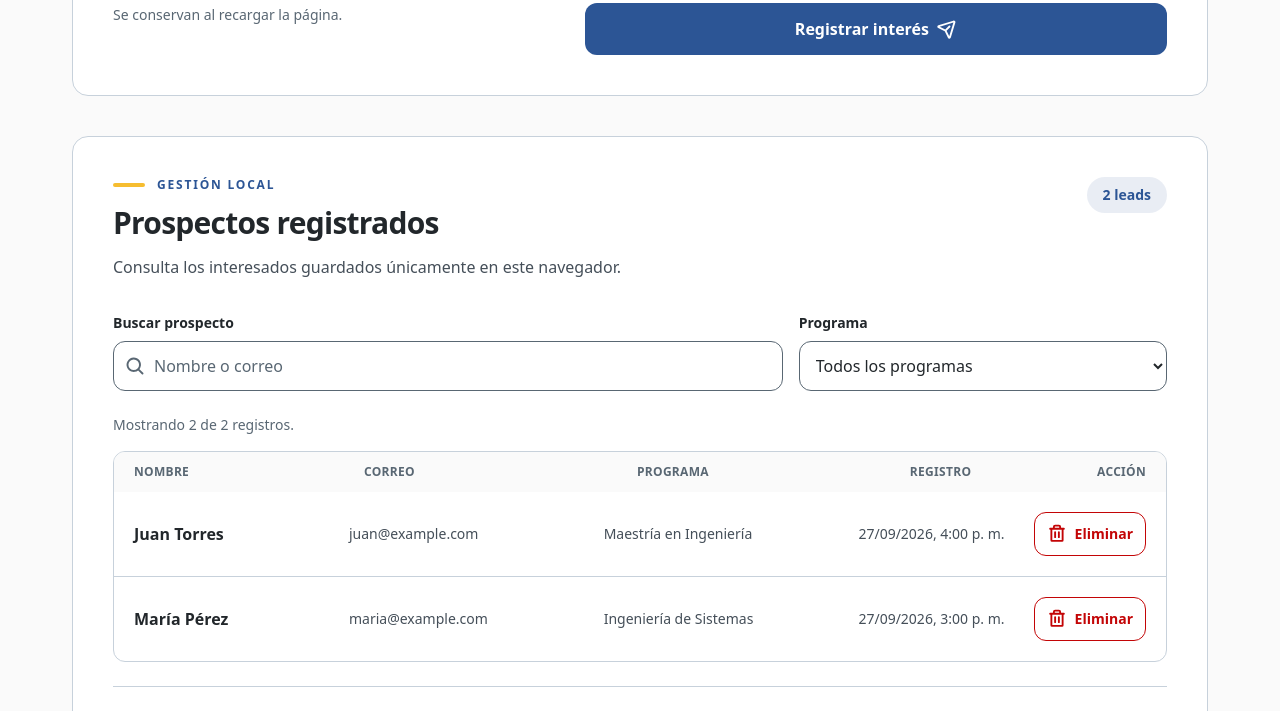
Scenario: panel de prospectos › busca por nombre sin tildes y filtra por programa
(page scrolled)
Type "maria" into the search field labelled "Buscar prospecto". click: (448, 366)
box: [113,340,783,390]
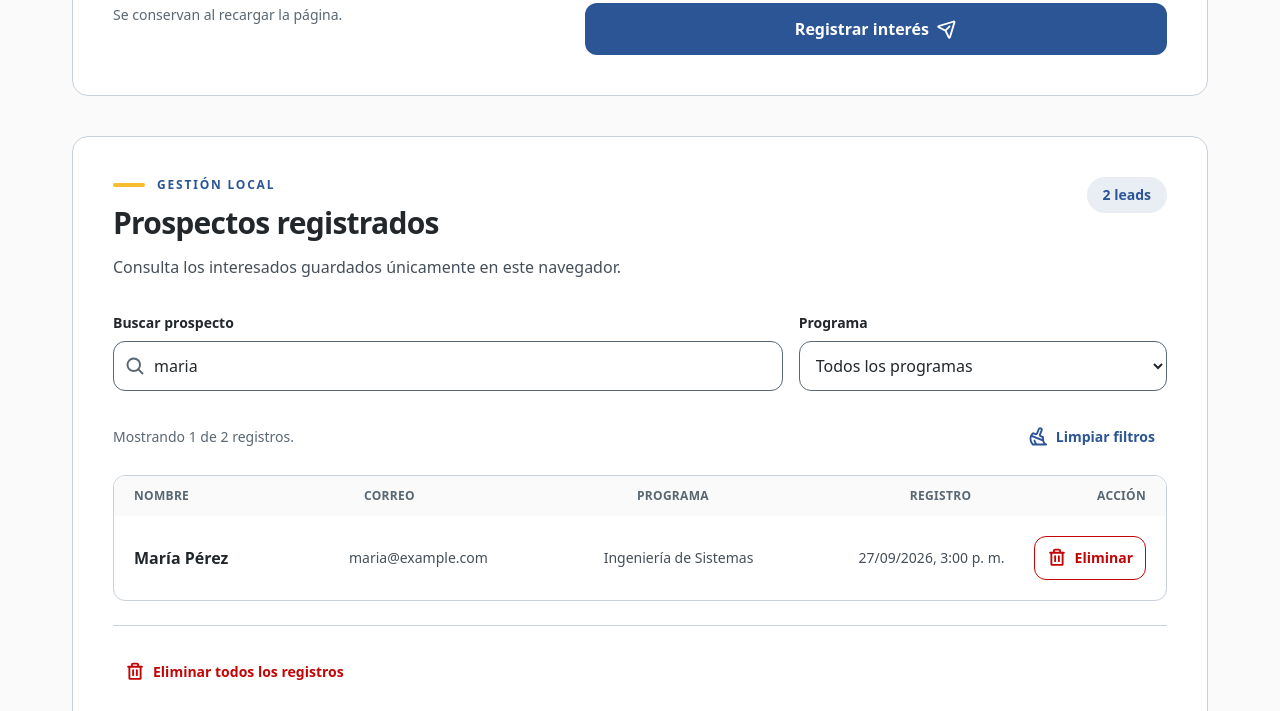
Expected: the text "María Pérez" is shown, [134,546,228,568]
Expected: the text "Mostrando 1 de 2 registros." is shown, [113,426,294,446]
Expected: the text "Juan Torres" is gone
Click the button "Limpiar filtros". click: click(1091, 436)
box: [1016,414,1167,458]
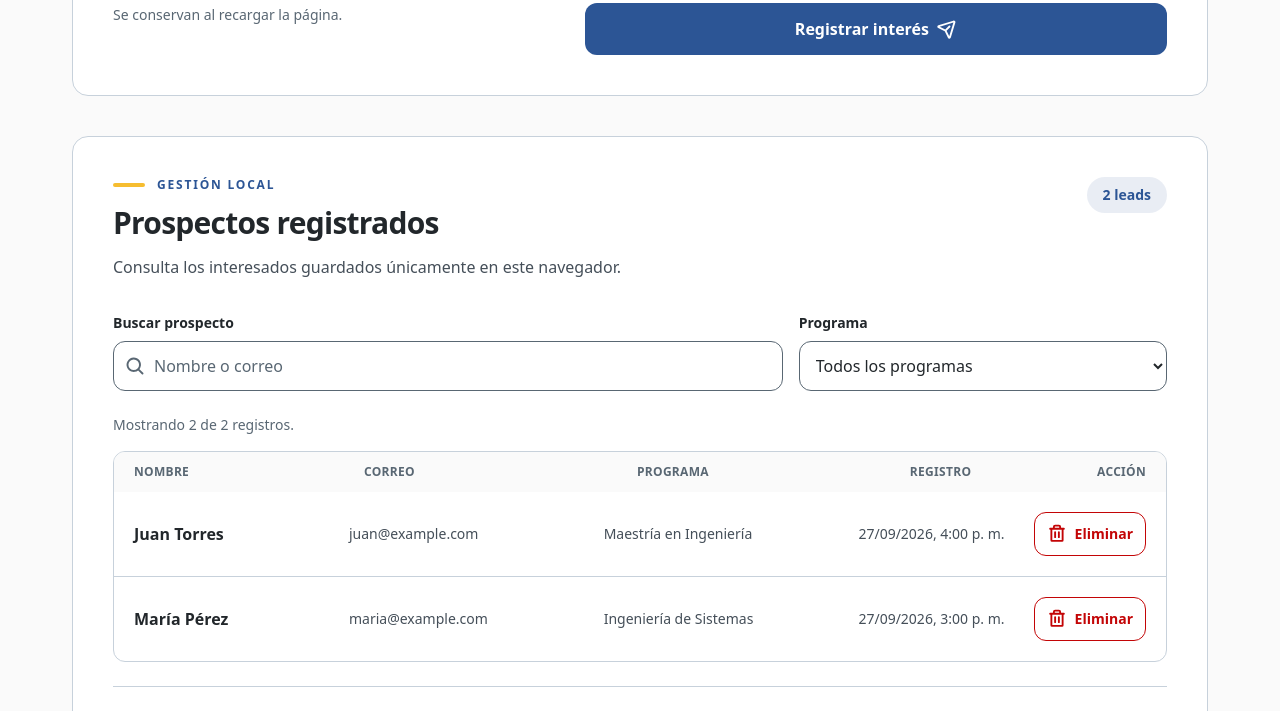
Select "Maestría en Ingeniería" in the dropdown labelled "Programa". click: (983, 366)
box: [799,340,1167,390]
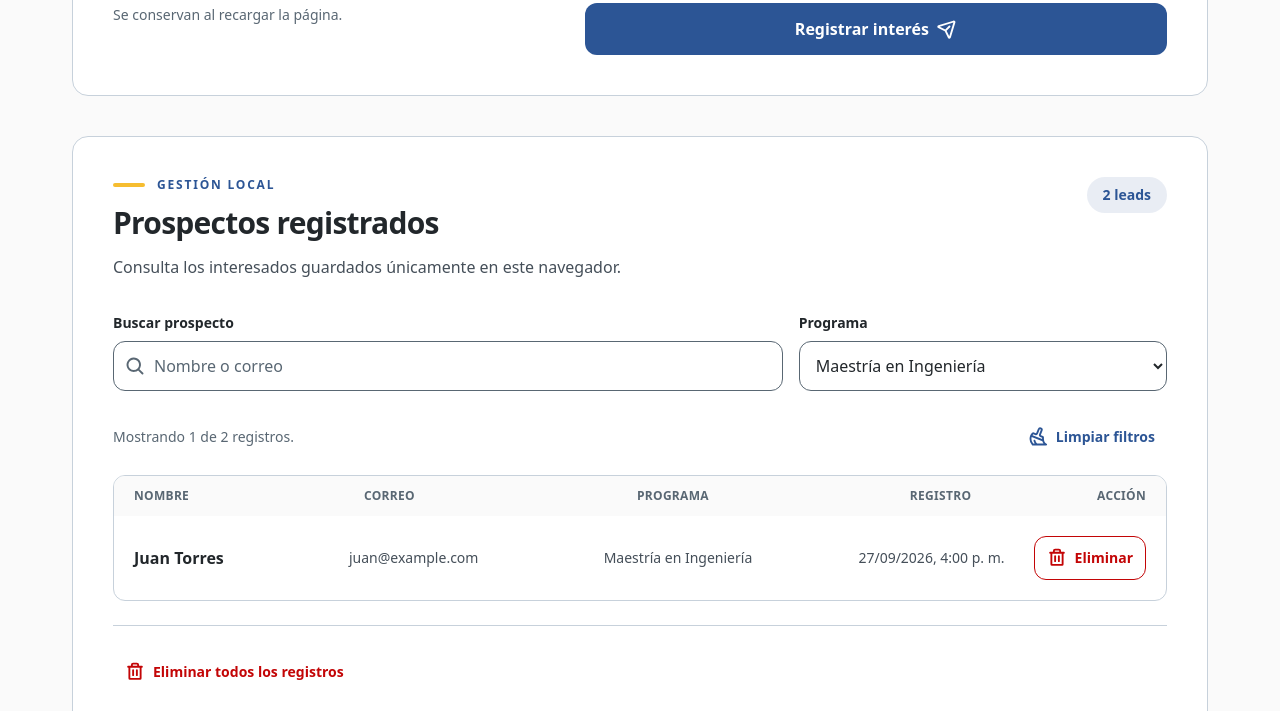
Expected: the text "Juan Torres" is shown, [134,546,224,568]
Expected: the text "María Pérez" is gone
